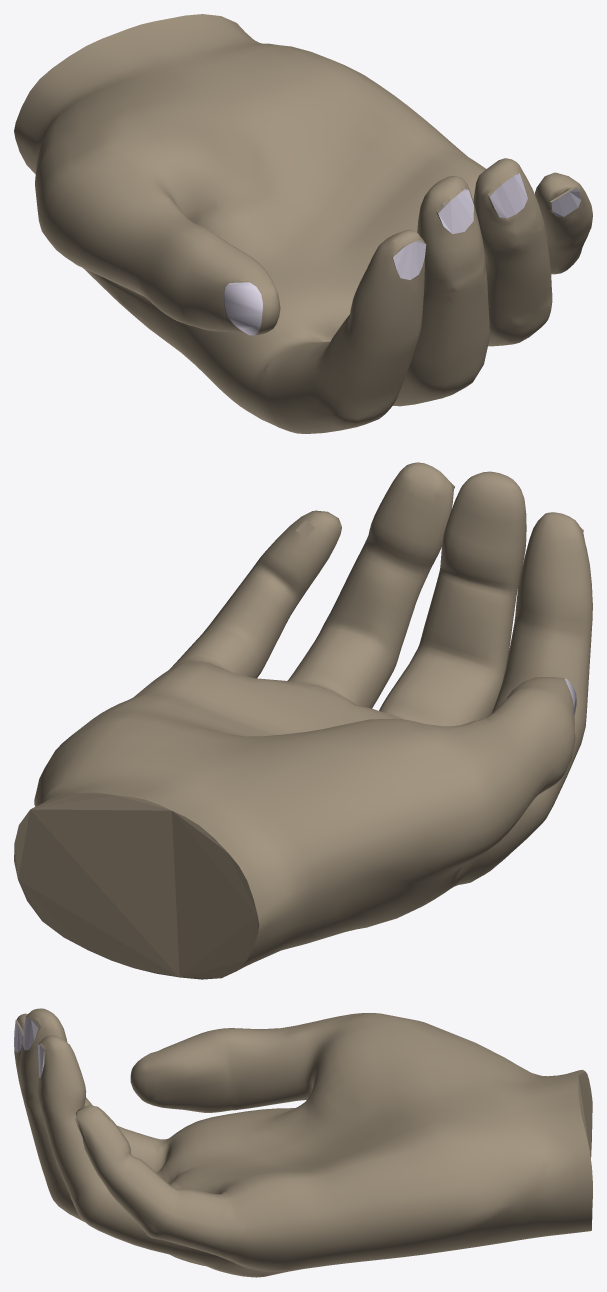
File: Right Hand@ASIF KHAN.FBX
3 renders of one model, top to bottom at view 1: azimuth 30°, elevation 25°; view 2: azimuth 150°, elevation 25°; view 3: azimuth 270°, elevation 25°, orthographic. The views are drawn at different scales.
Visible parts, largest first — view 1: Object001; view 2: Object001; view 3: Object001.
Boxes of the visible parts, box(x1,y1,x2,y2) form: Object001: box(14, 14, 592, 433); Object001: box(14, 462, 592, 979); Object001: box(14, 1008, 592, 1277).
Bounding box in the file's own units: 33.33 × 23.05 × 48.68.
